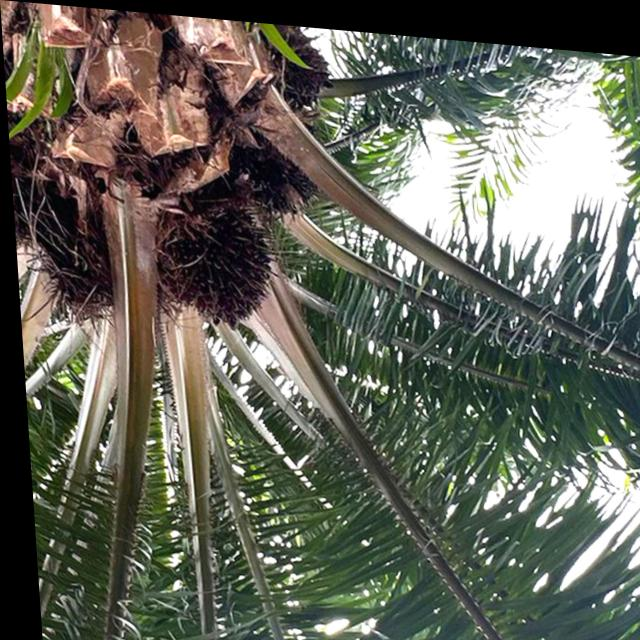almost: (152, 192, 277, 333)
